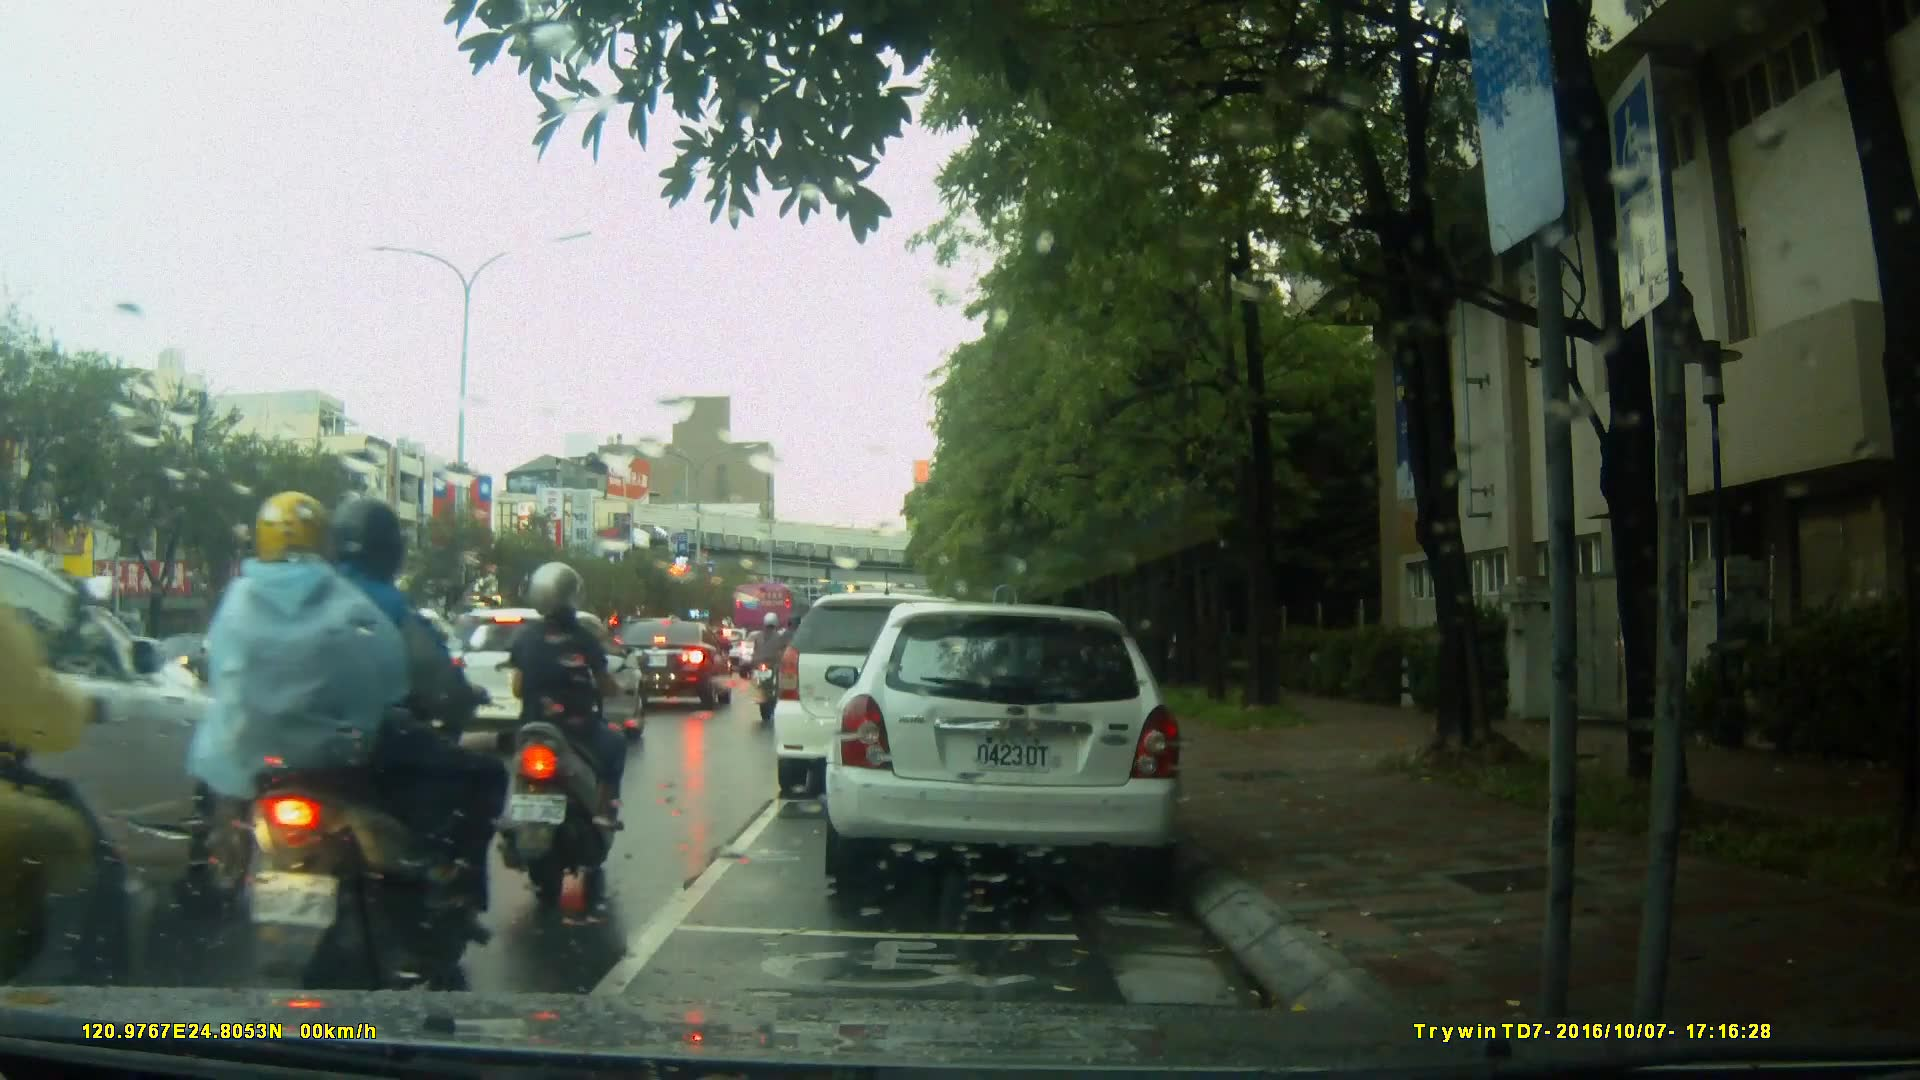rider: (183, 489, 499, 1010), (1, 433, 138, 1041), (495, 565, 635, 909), (747, 612, 804, 727)
vehicle: (835, 594, 1194, 898), (776, 590, 1026, 784), (431, 606, 649, 753), (606, 617, 735, 711), (735, 582, 812, 652)
